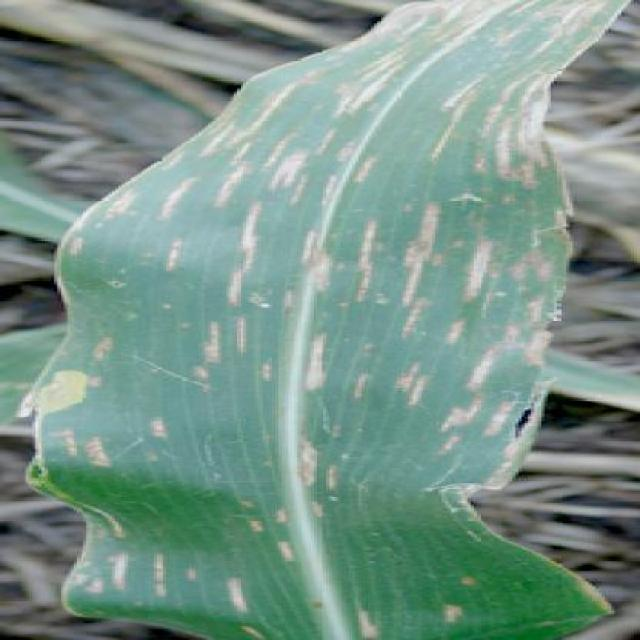Corn_Grey_Leaf_Spot: (38, 0, 617, 640)
